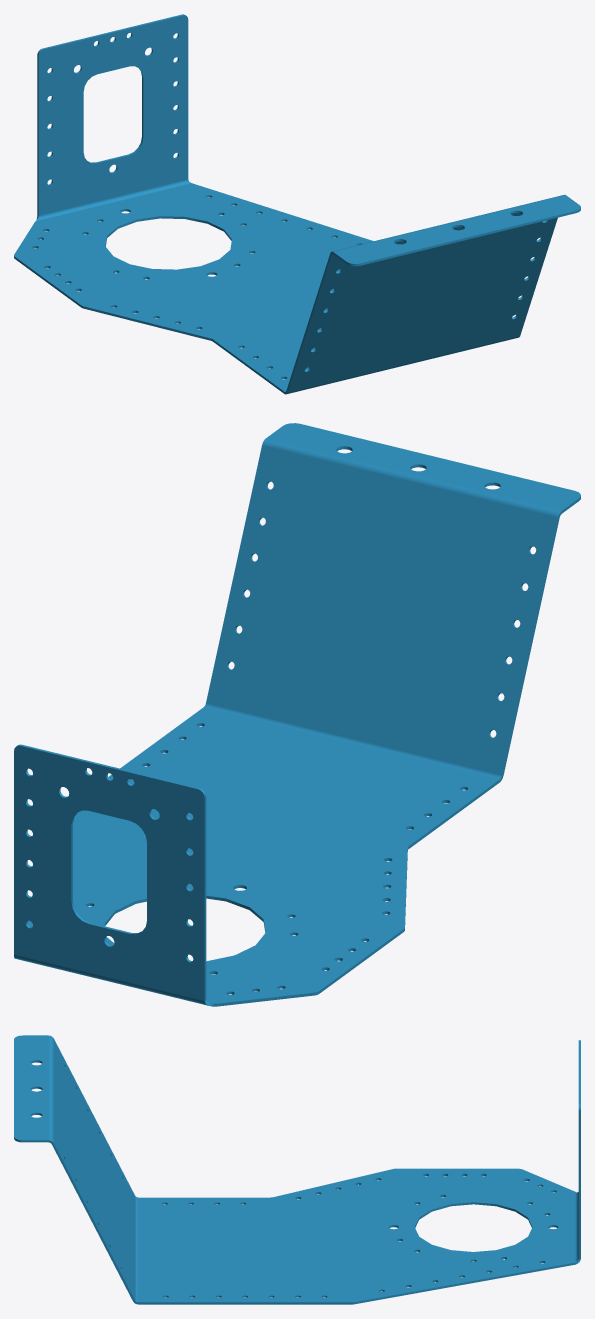
3 renders of one model, top to bottom at view 1: azimuth 30°, elevation 25°; view 2: azimuth 150°, elevation 25°; view 3: azimuth 270°, elevation 25°, orthographic. The views are drawn at different scales.
Visible parts, largest first — view 1: mesh4526, mesh4608, mesh4621, mesh4602, mesh4577, mesh4600; view 2: mesh4607, mesh4526, mesh4622, mesh4602, mesh4595, mesh4578, mesh4582; view 3: mesh4526, mesh4607, mesh4602, mesh4576, mesh4595, mesh4573, mesh4591, mesh4584, mesh4578.
Boxes of the visible parts, left/top/right/bottom form: mesh4526: left=14, top=183, right=373, bottom=391; mesh4608: left=287, top=213, right=557, bottom=392; mesh4621: left=38, top=15, right=188, bottom=215; mesh4602: left=334, top=195, right=580, bottom=263; mesh4577: left=35, top=179, right=191, bottom=221; mesh4600: left=360, top=211, right=576, bottom=265; mesh4607: left=206, top=445, right=557, bottom=774; mesh4526: left=27, top=707, right=499, bottom=1003; mesh4622: left=14, top=745, right=204, bottom=1000; mesh4602: left=266, top=423, right=580, bottom=510; mesh4595: left=262, top=438, right=561, bottom=517; mesh4578: left=204, top=703, right=501, bottom=779; mesh4582: left=14, top=954, right=208, bottom=1005; mesh4526: left=138, top=1168, right=574, bottom=1302; mesh4607: left=54, top=1039, right=134, bottom=1299; mesh4602: left=14, top=1035, right=48, bottom=1140; mesh4576: left=138, top=1302, right=352, bottom=1304; mesh4595: left=48, top=1035, right=53, bottom=1142; mesh4573: left=354, top=1262, right=574, bottom=1304; mesh4591: left=52, top=1143, right=134, bottom=1301; mesh4584: left=578, top=1111, right=580, bottom=1258; mesh4578: left=135, top=1196, right=138, bottom=1302.
Bounding box in the file's own units: 0.1746 × 0.1 × 0.313.
